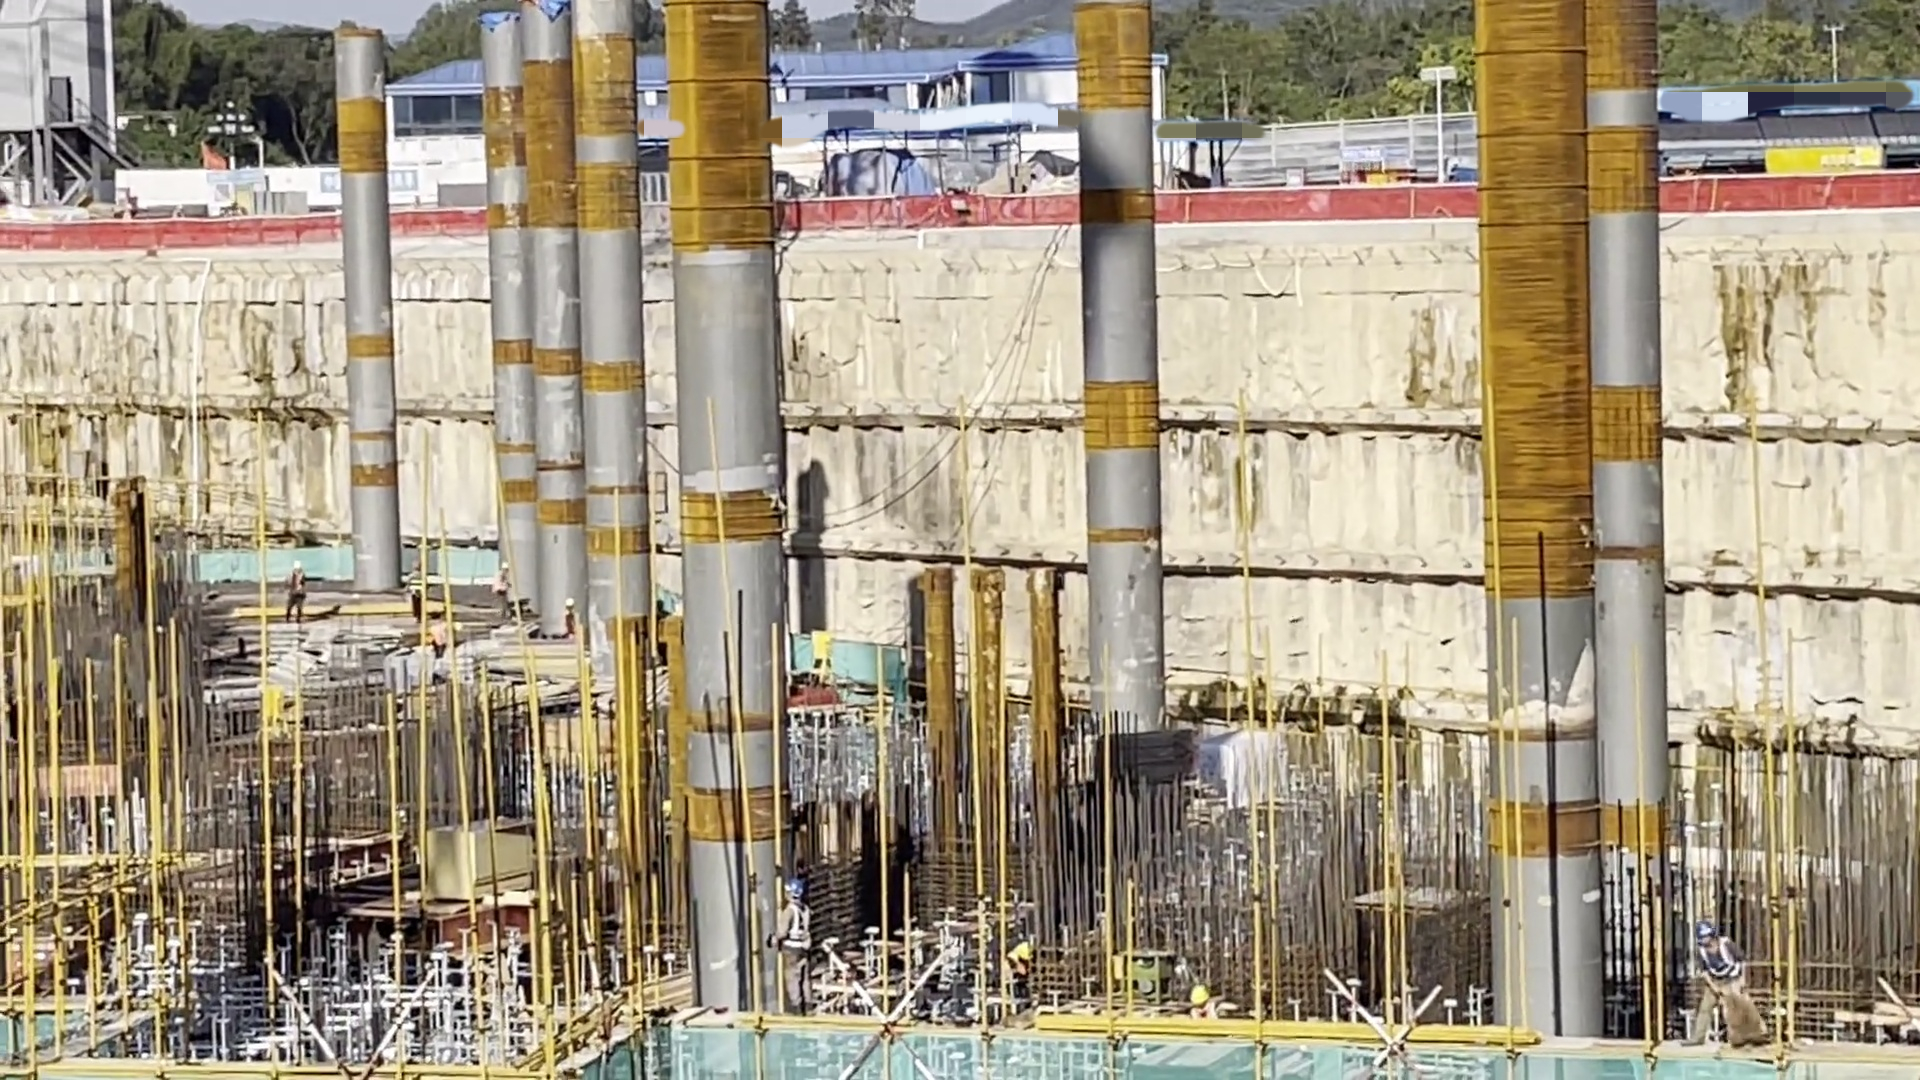board: (433, 827, 553, 936)
ebox: (251, 689, 271, 717)
fence: (1154, 177, 1481, 226), (13, 211, 339, 246), (1658, 172, 1920, 206), (779, 196, 1074, 221), (393, 211, 476, 237)
helmet: (1189, 984, 1209, 1002), (1694, 923, 1712, 939), (785, 881, 801, 897), (294, 557, 304, 569), (1015, 949, 1029, 957), (500, 562, 510, 571), (567, 596, 575, 605), (416, 563, 423, 571)
person: (1688, 906, 1749, 1053), (775, 879, 815, 1014), (1004, 922, 1030, 1008), (398, 555, 431, 624), (1180, 983, 1222, 1033), (492, 561, 514, 623), (285, 555, 305, 625), (560, 594, 582, 650)
vest: (1701, 939, 1748, 989), (780, 901, 808, 943), (1011, 951, 1029, 982), (406, 572, 425, 598), (291, 569, 307, 598), (1193, 1006, 1221, 1022), (565, 608, 577, 637), (495, 569, 510, 592)
